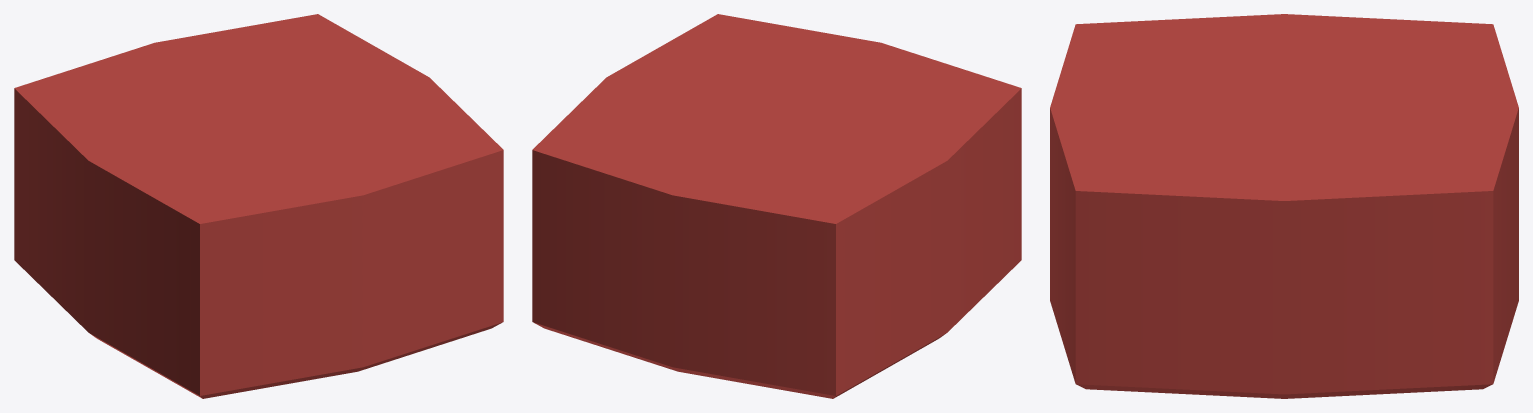
File: trunk_lod2.glb
3 views of the same model, side by side, from view 1: azimuth 30°, elevation 25°; view 2: azimuth 150°, elevation 25°; view 3: azimuth 270°, elevation 25° (orthographic). The views are drawn at different scales.
Visible parts, largest first — view 1: trunk_lod2; view 2: trunk_lod2; view 3: trunk_lod2.
Boxes of the visible parts, box(x1,y1,x2,y2) form: trunk_lod2: box(14, 14, 503, 398); trunk_lod2: box(532, 14, 1021, 398); trunk_lod2: box(1050, 14, 1518, 398).
Size of the model in its own units: 0.34 by 0.1716 by 0.36.
